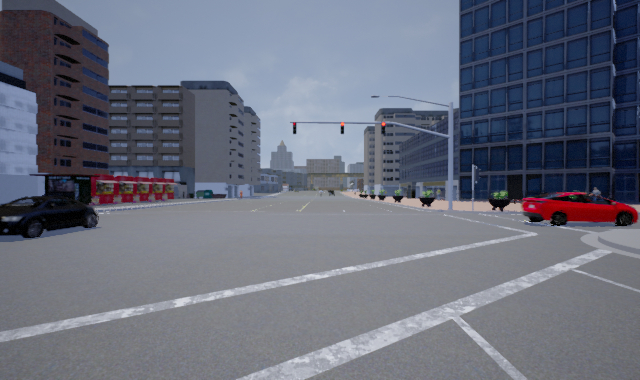pedestrian: (590, 186, 601, 197)
traffic_light: (292, 121, 297, 135), (381, 121, 386, 135), (340, 121, 344, 135)
vehicle: (1, 194, 99, 238), (521, 192, 639, 226)
